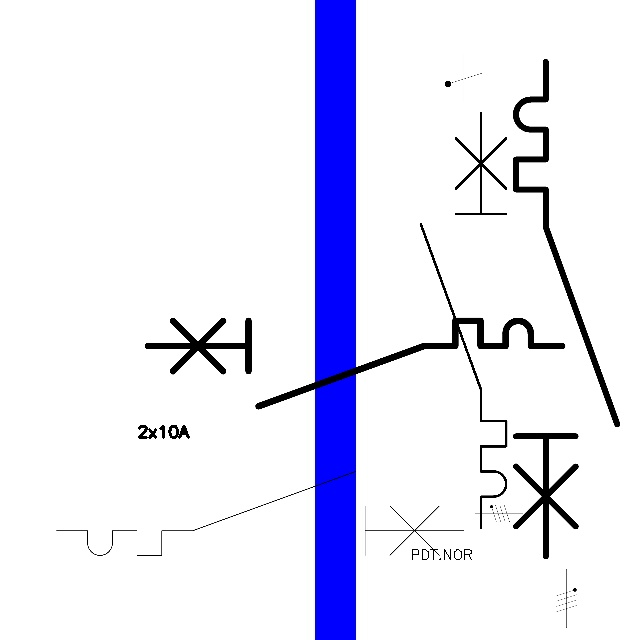interruptor_termomagnetico: (503, 49, 630, 569), (410, 102, 517, 539), (137, 310, 573, 416), (46, 461, 474, 566)
